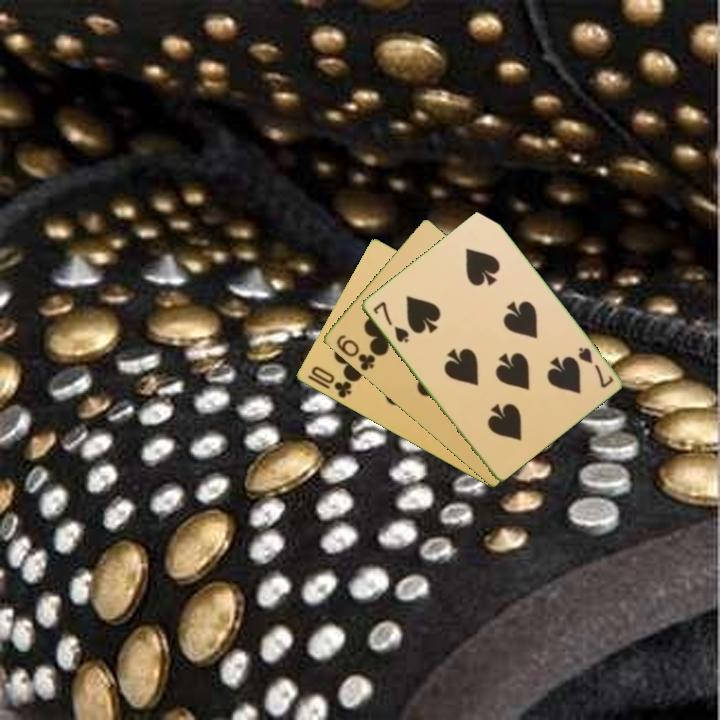10c: (307, 362, 354, 401)
6c: (332, 331, 378, 374)
7s: (369, 298, 412, 345), (574, 343, 616, 391)
